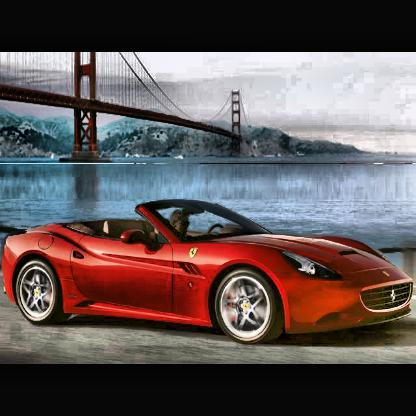Ferrari California Convertible 2012: (3, 200, 415, 346)
